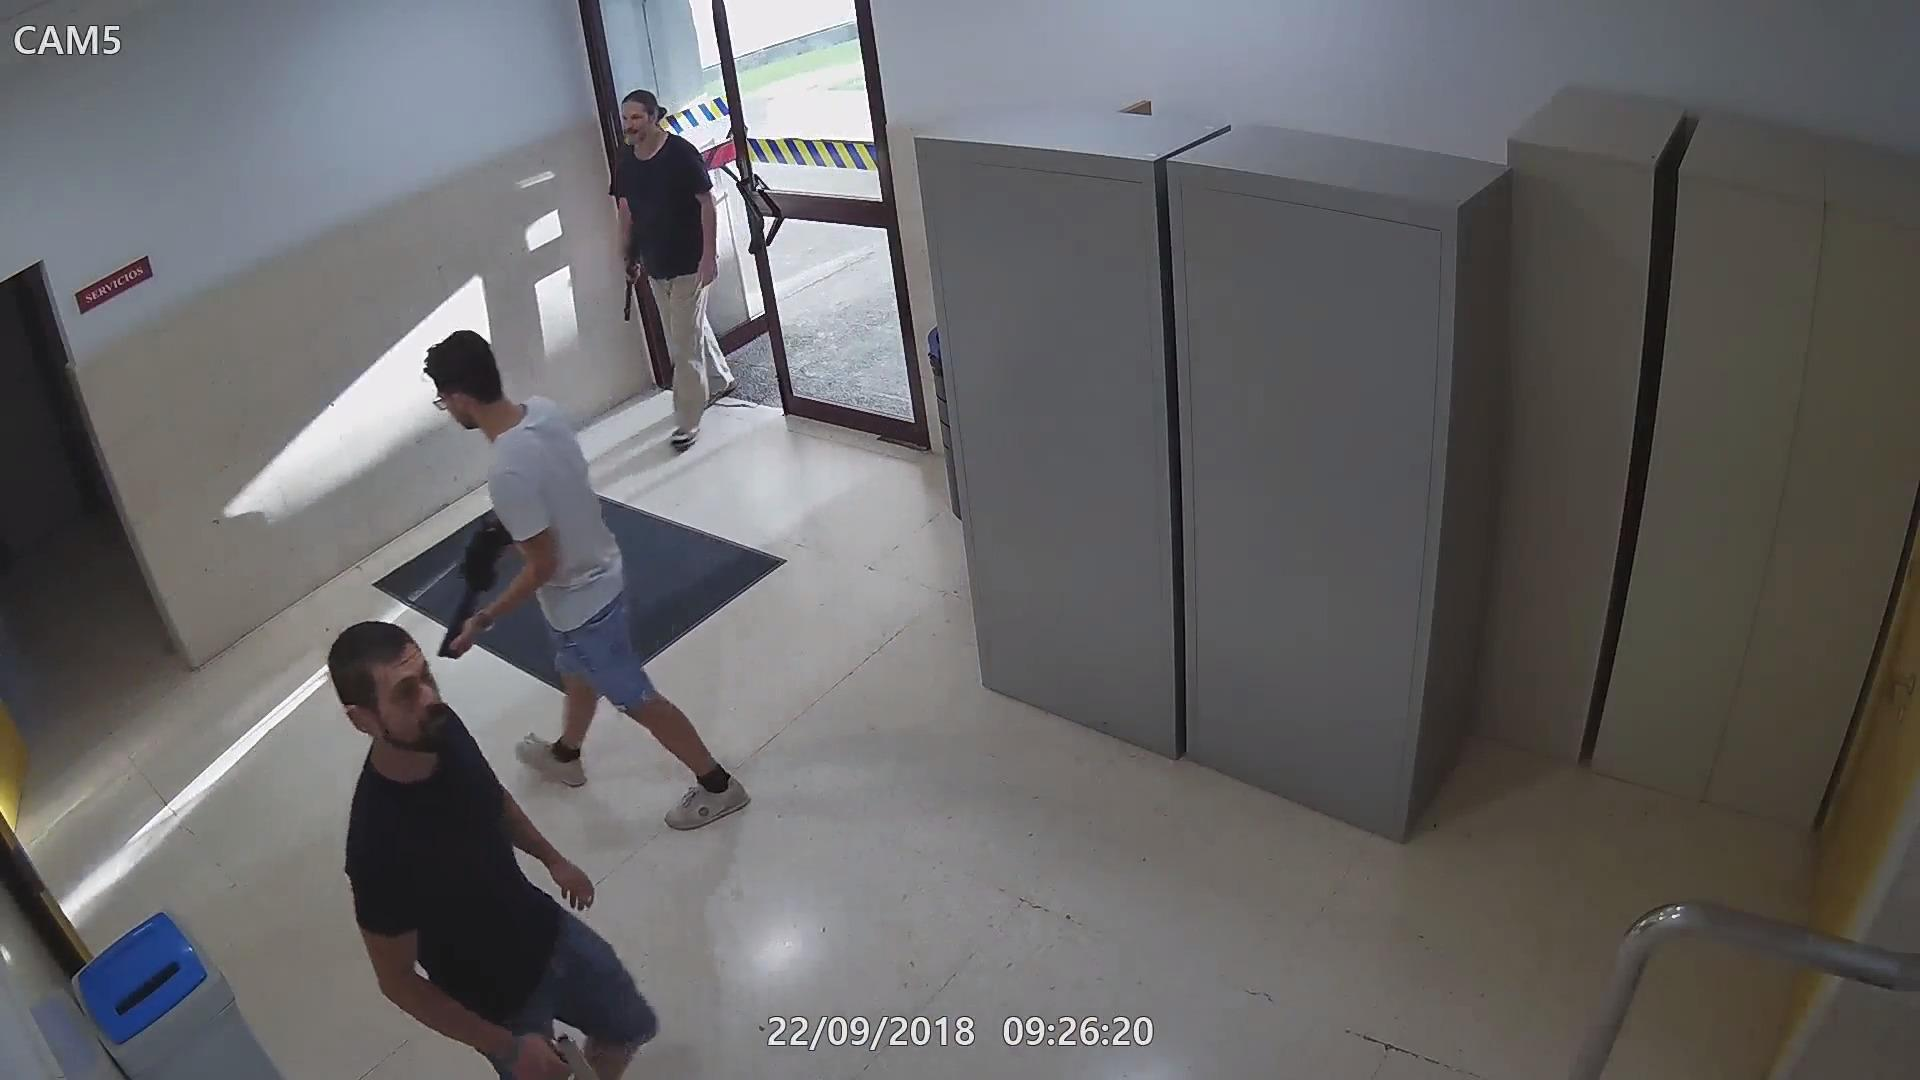Handgun: (502, 1019, 615, 1079)
